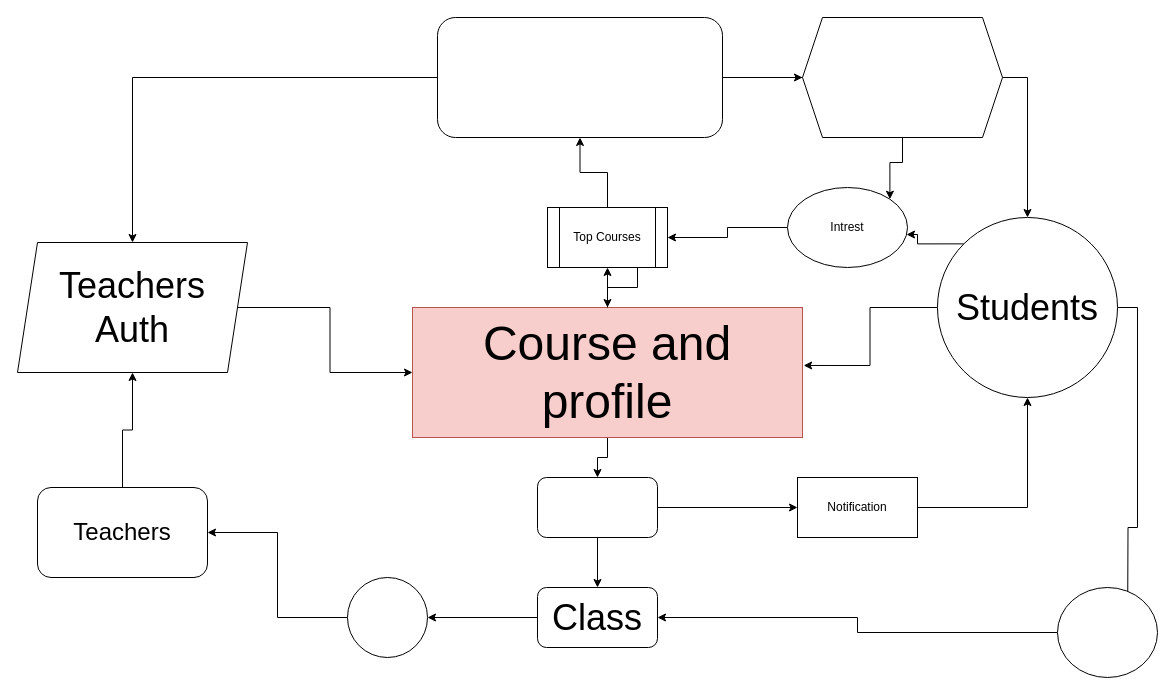
Some shapes in this 1175 by 695 pixel diagram are drawn without their labels. Each missing label, with the centre of its shape:
"class info" belongs at (x=597, y=507).
"EdTech" belongs at (x=579, y=77).
"Feedback" belongs at (x=387, y=617).
"Student Registration/login" belongs at (x=902, y=77).
